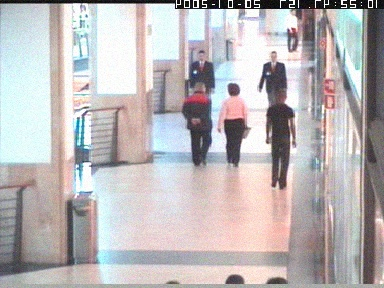person: (216, 82, 252, 167), (265, 90, 295, 189), (179, 81, 211, 164), (190, 51, 215, 125), (258, 51, 287, 107), (287, 9, 300, 53)
